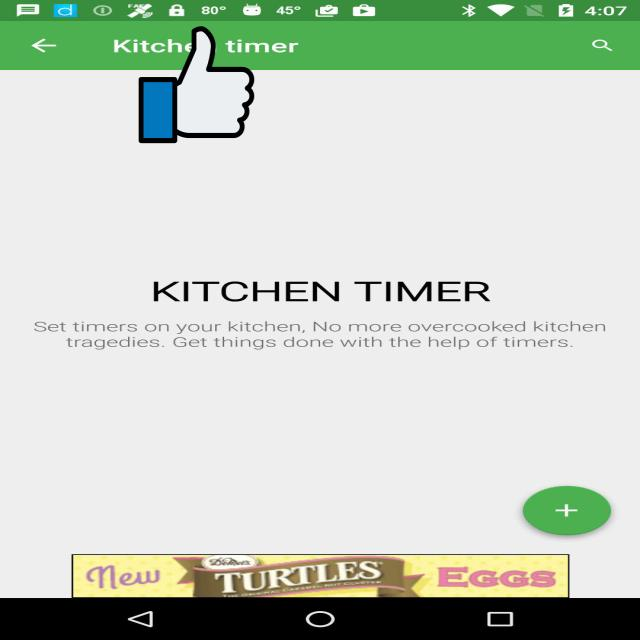privacy zuckering: (139, 23, 254, 146)
